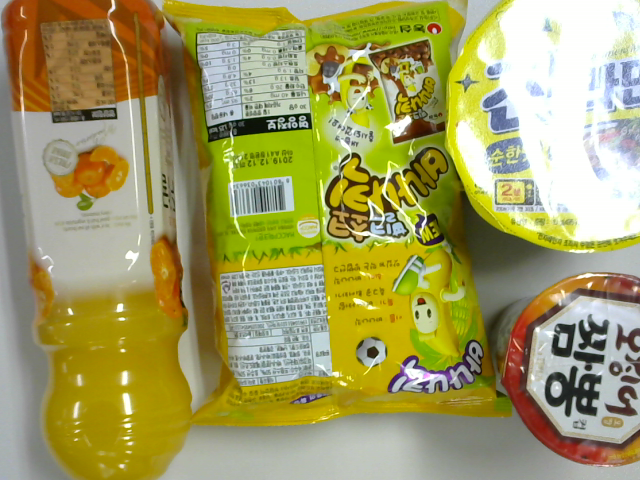Banana_Kick: (169, 2, 509, 434)
Jeju_Tangerine_1.5L: (5, 6, 208, 480)
Jinlamyeon_Mild_Taste_Large_Cup: (445, 4, 640, 259)
Ojjam: (493, 270, 640, 462)
